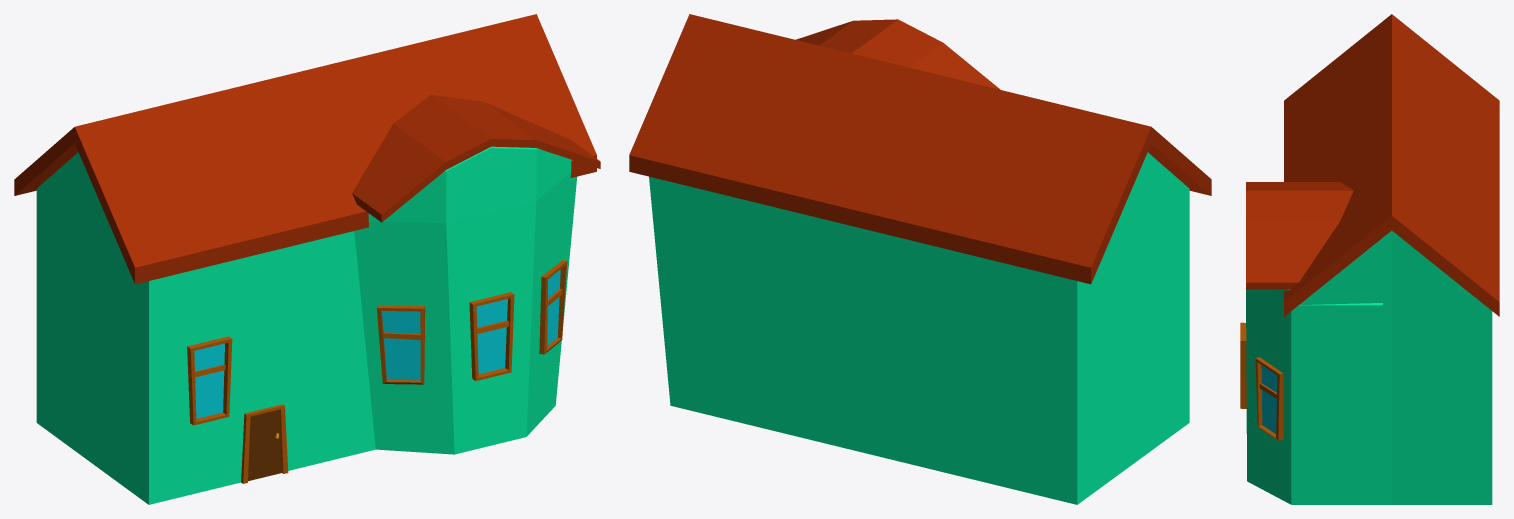
Rendered from Casa5.fbx.
3 renders of one model, left to right at view 1: azimuth 30°, elevation 25°; view 2: azimuth 150°, elevation 25°; view 3: azimuth 270°, elevation 25°, orthographic. The views are drawn at different scales.
Parts seen in each view (by area): view 1: Casa5; view 2: Casa5; view 3: Casa5.
Part boxes in pixels (bbox=[...]): Casa5: bbox=[14, 14, 600, 504]; Casa5: bbox=[629, 14, 1211, 504]; Casa5: bbox=[1240, 14, 1499, 504].
Bounding box in the file's own units: 1426 × 1008 × 776.
